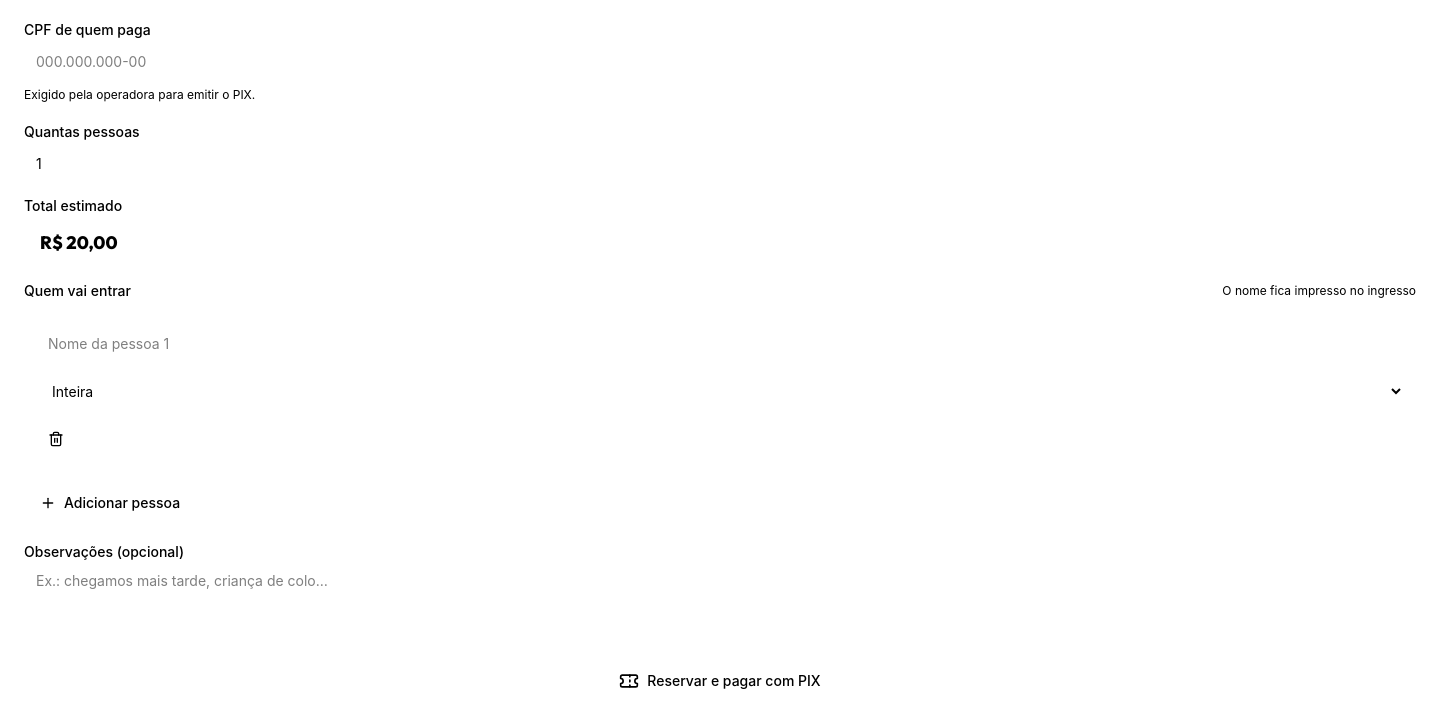
Test: EventTicketForm › soma o total pelo tipo de cada ingresso
(page scrolled)
Click the button "Adicionar pessoa": (110, 503) 24,483 -> 196,523
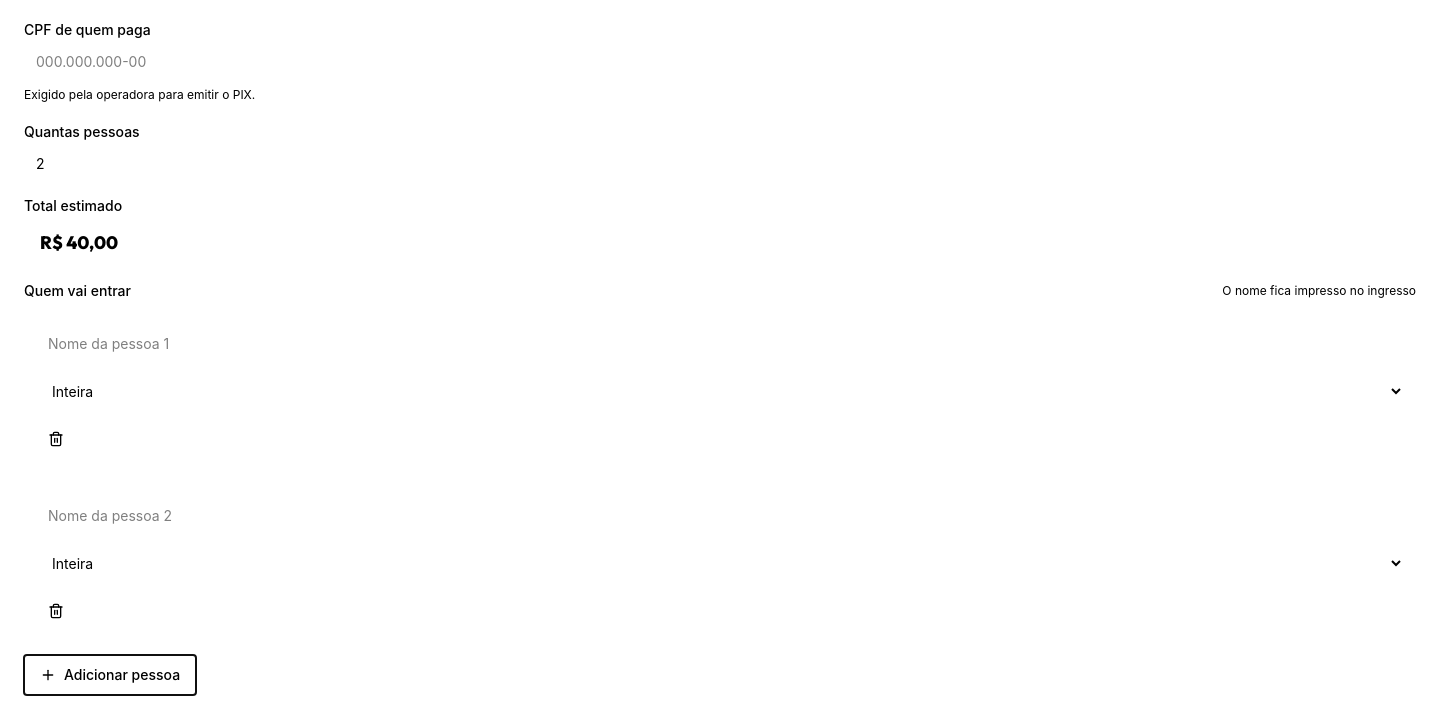
Select "Membro do Clube (50%)" in the dropdown named "Tipo de ingresso da pessoa 2": (720, 563) 36,543 -> 1404,583
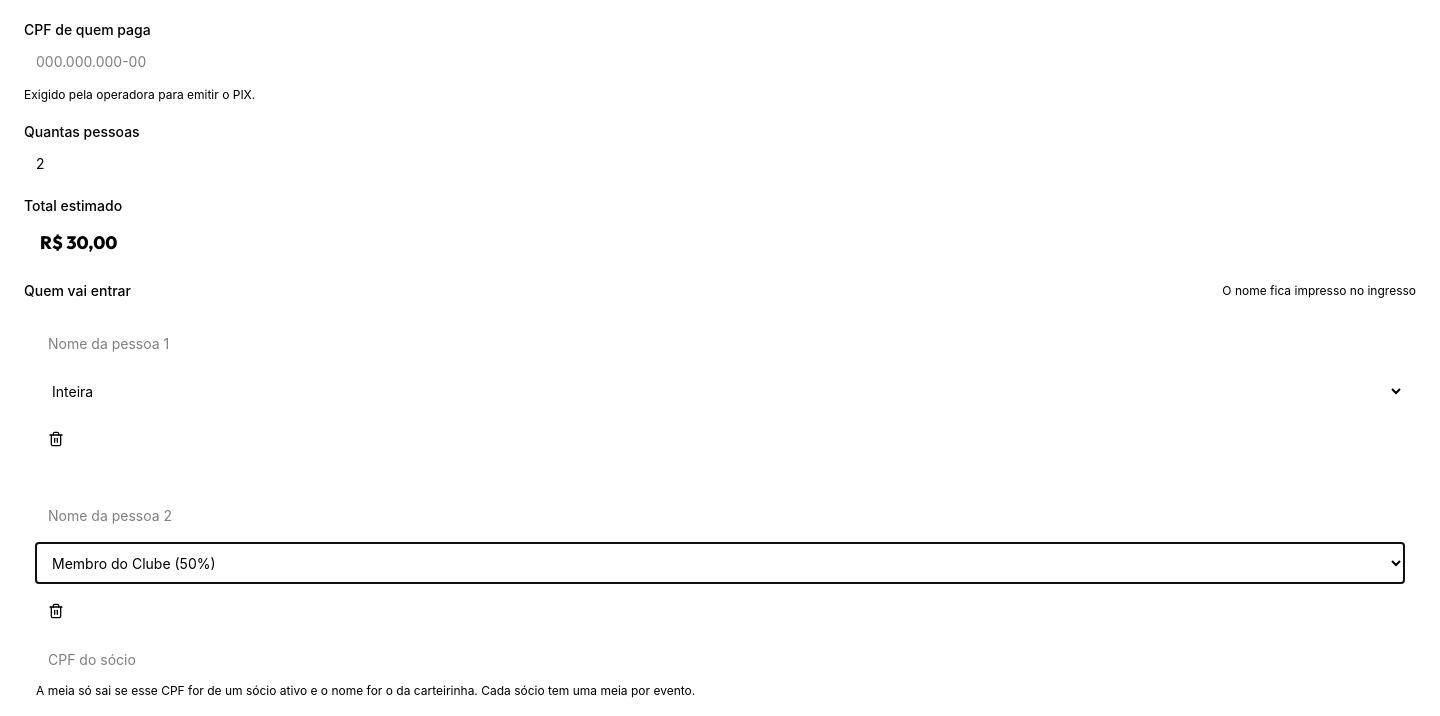
Expected: the text "R$ 30,00" is shown, 40,231 -> 117,254
